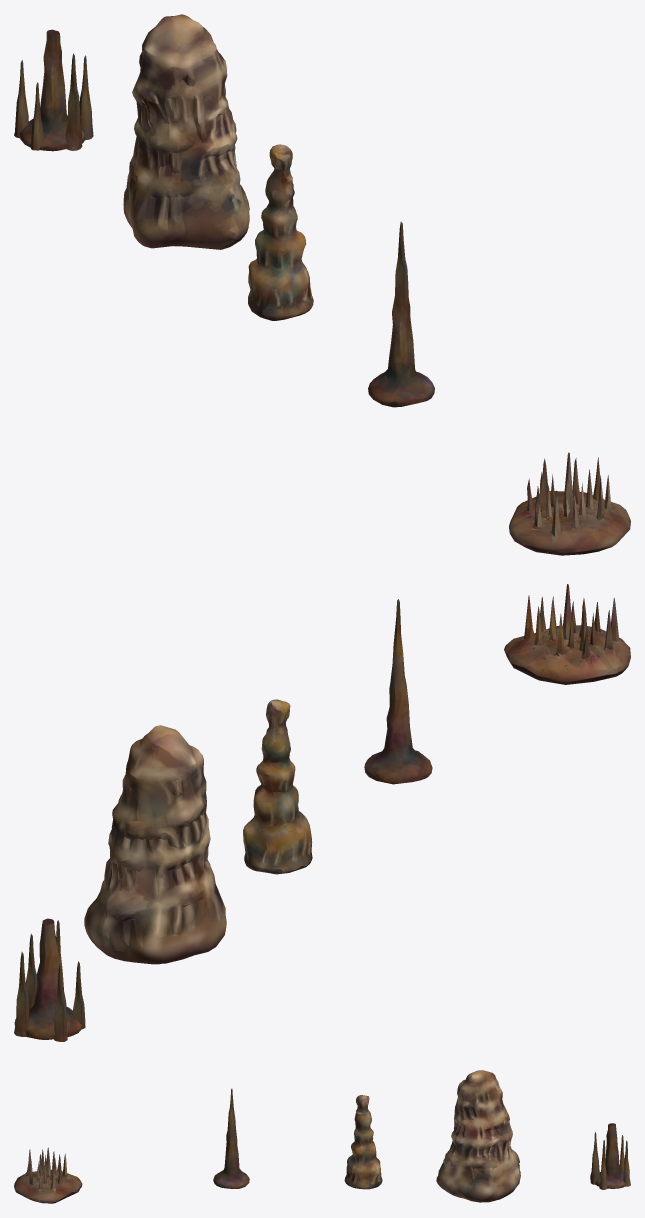
File: Dripstones.fbx
The picture shows the model from 3 angles, top to bottom: view 1: azimuth 30°, elevation 25°; view 2: azimuth 150°, elevation 25°; view 3: azimuth 270°, elevation 25°; orthographic projection. The views are drawn at different scales.
Visible parts, largest first — view 1: Dripstone04, Dripstone01, Dripstone03, Dripstone05, Dripstone02; view 2: Dripstone04, Dripstone03, Dripstone01, Dripstone05, Dripstone02; view 3: Dripstone04, Dripstone01, Dripstone03, Dripstone05, Dripstone02.
Part boxes in pixels (box(x1,y1,x2,y2)): Dripstone04: box(123, 14, 249, 249); Dripstone01: box(509, 452, 630, 555); Dripstone03: box(248, 144, 313, 320); Dripstone05: box(14, 29, 93, 151); Dripstone02: box(368, 221, 434, 407); Dripstone04: box(84, 725, 226, 964); Dripstone03: box(243, 699, 312, 874); Dripstone01: box(504, 584, 630, 684); Dripstone05: box(14, 918, 85, 1041); Dripstone02: box(364, 599, 432, 784); Dripstone04: box(436, 1070, 520, 1202); Dripstone01: box(14, 1147, 82, 1203); Dripstone03: box(344, 1095, 382, 1189); Dripstone05: box(590, 1123, 630, 1189); Dripstone02: box(213, 1088, 249, 1188).
Bounding box in the file's own units: 809 × 1346 × 6167.
Materials: 4 (4 with a texture image).
